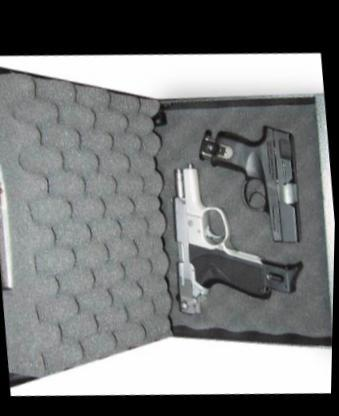pistol: (161, 150, 271, 317), (203, 104, 301, 248)
